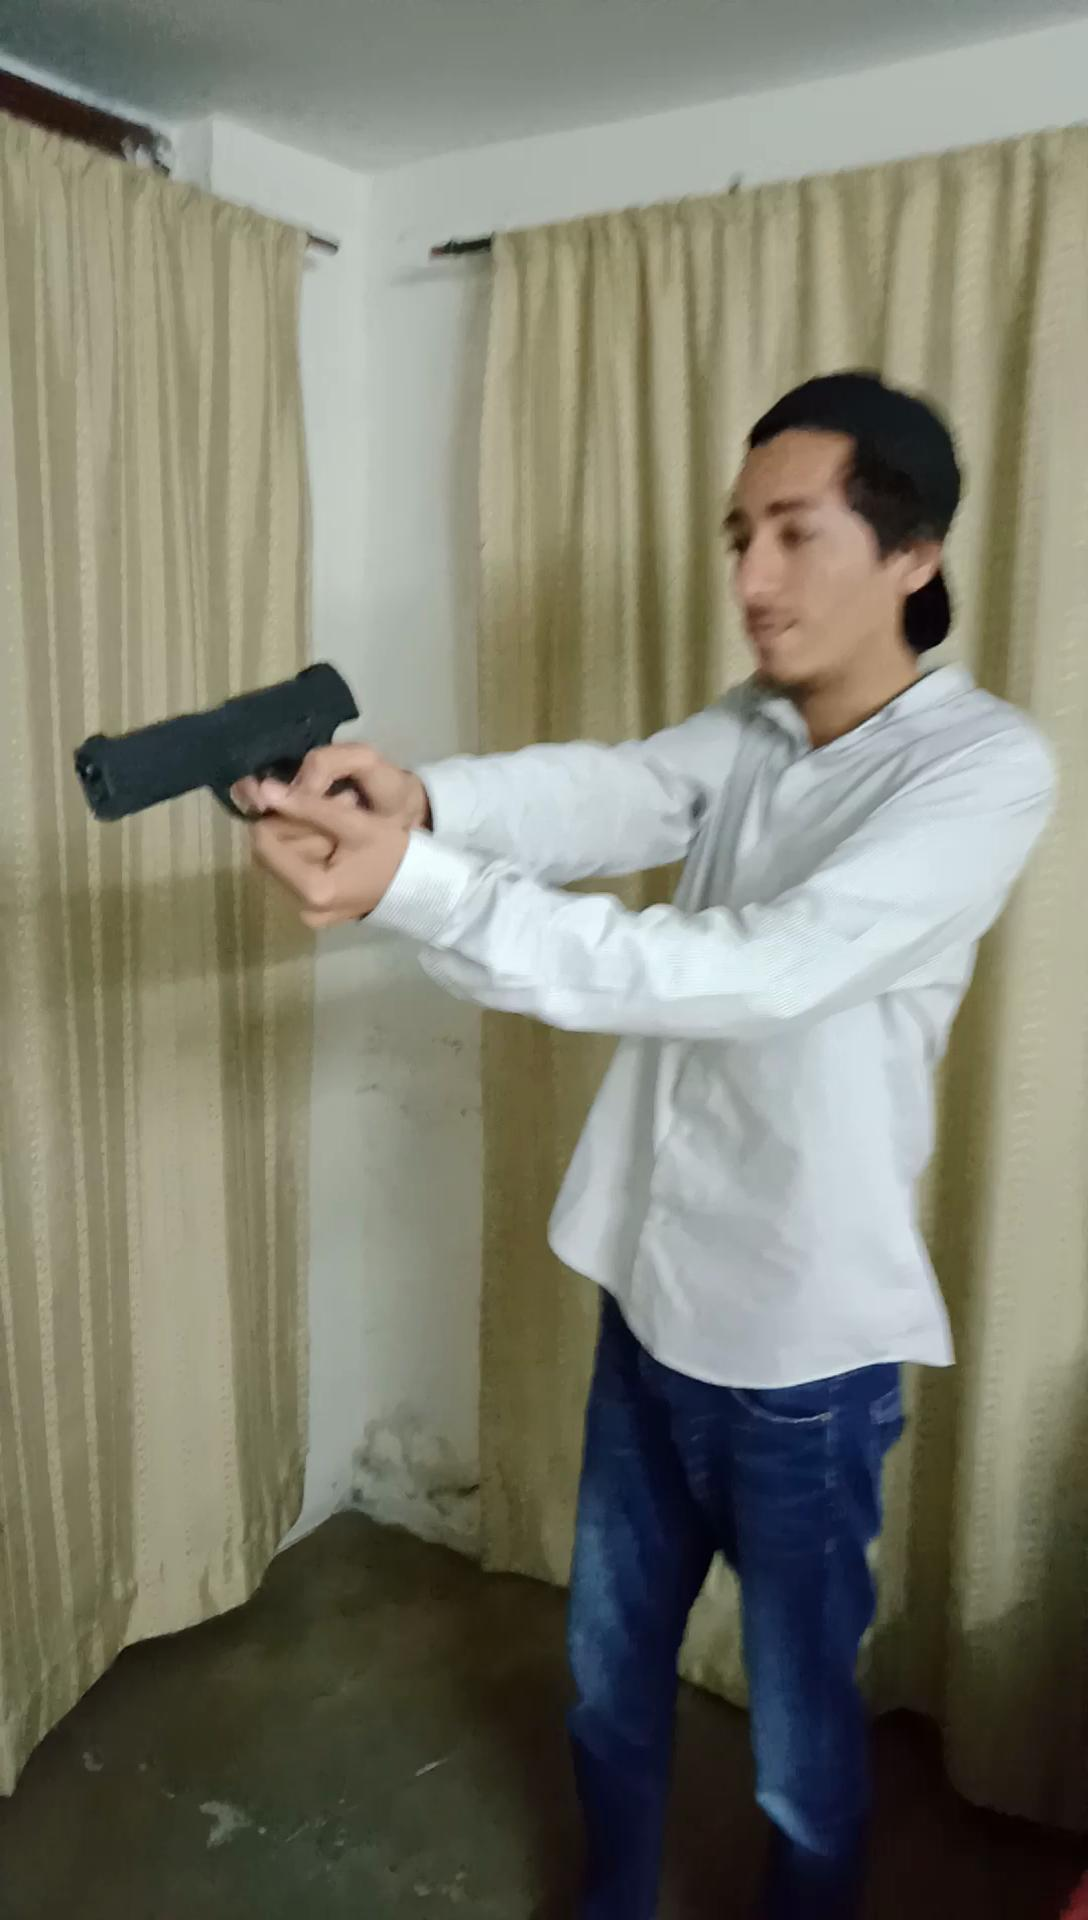criminal: (55, 367, 1062, 1920)
weapon: (69, 655, 376, 880)
